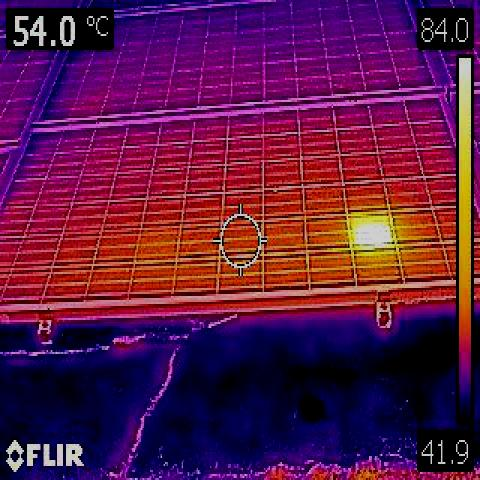fault: (347, 215, 392, 246)
